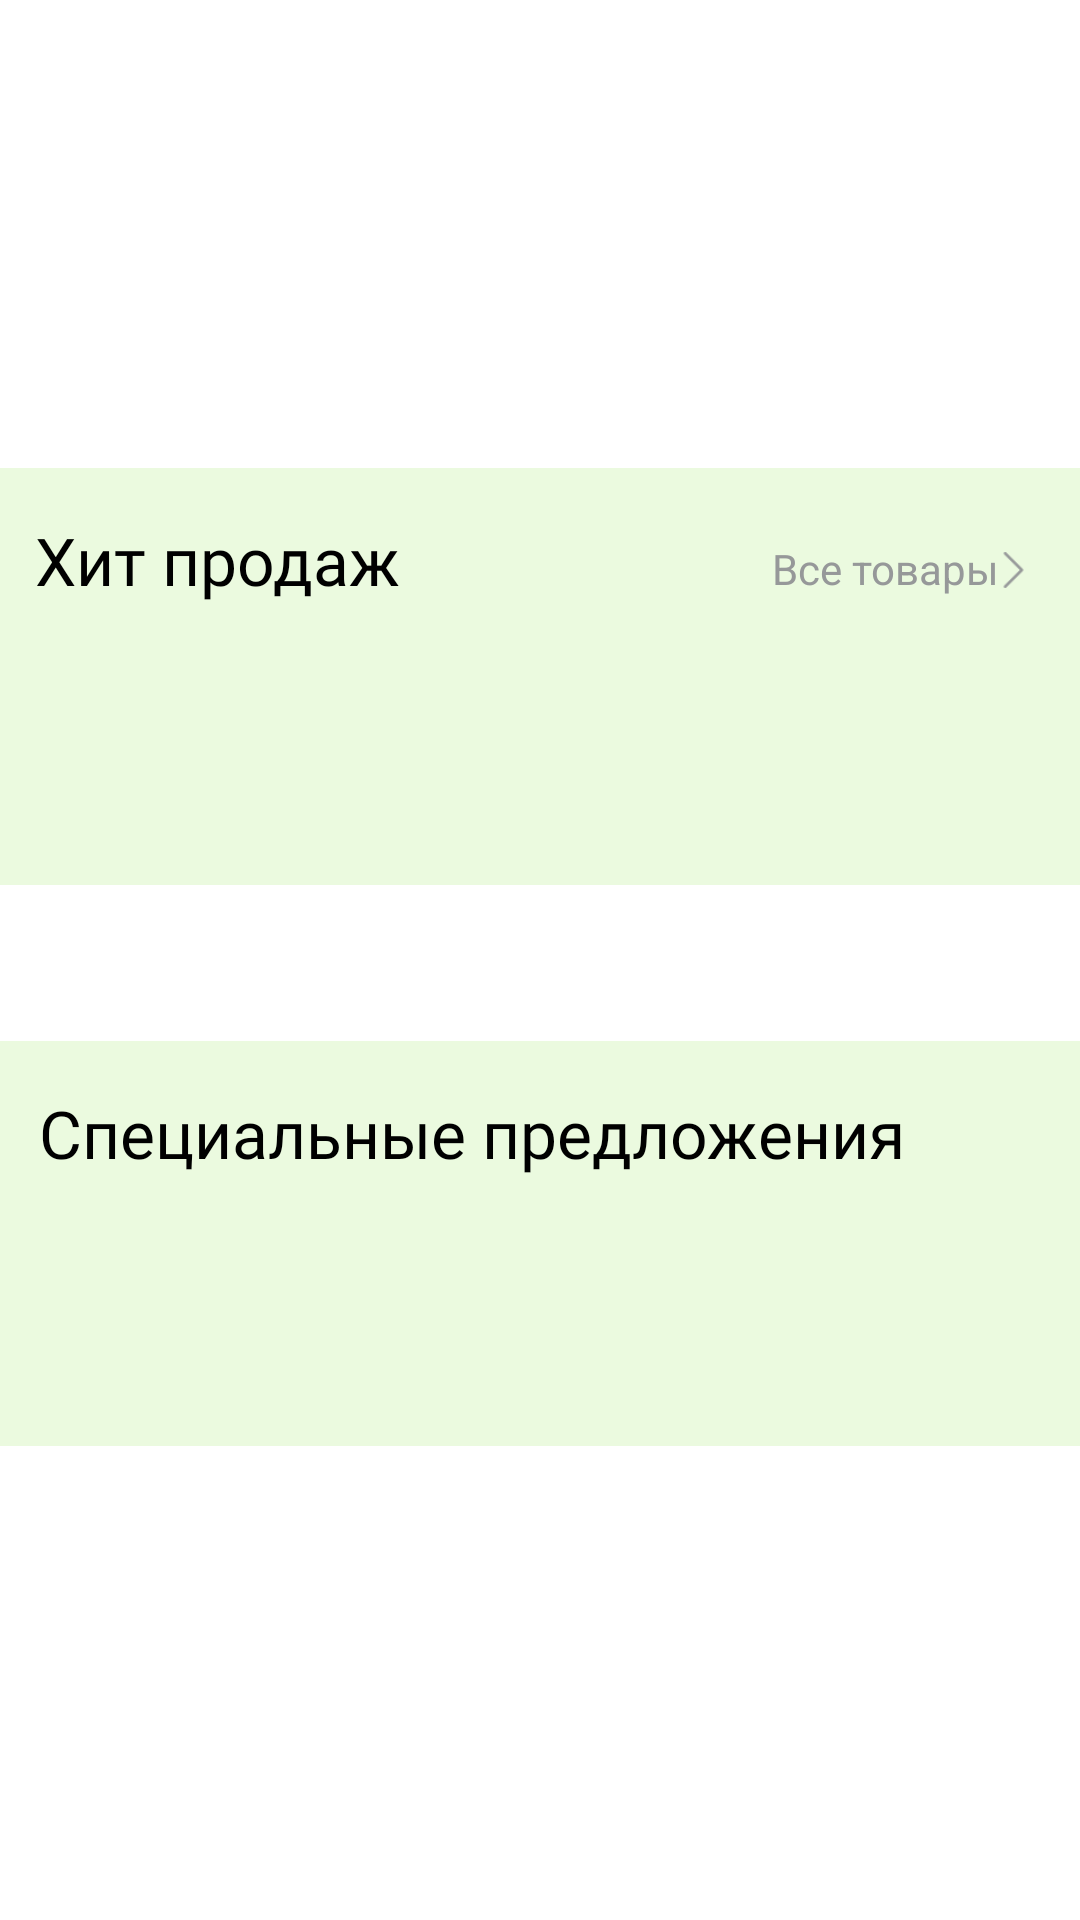

Named icons in this screenshot (1080×1920) and their bounding boxes, (x1, y1, x2, y2):
next: (991, 552, 1024, 588)
